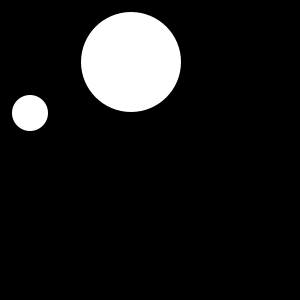rectangle: (81, 12, 181, 112), (12, 95, 48, 131)
